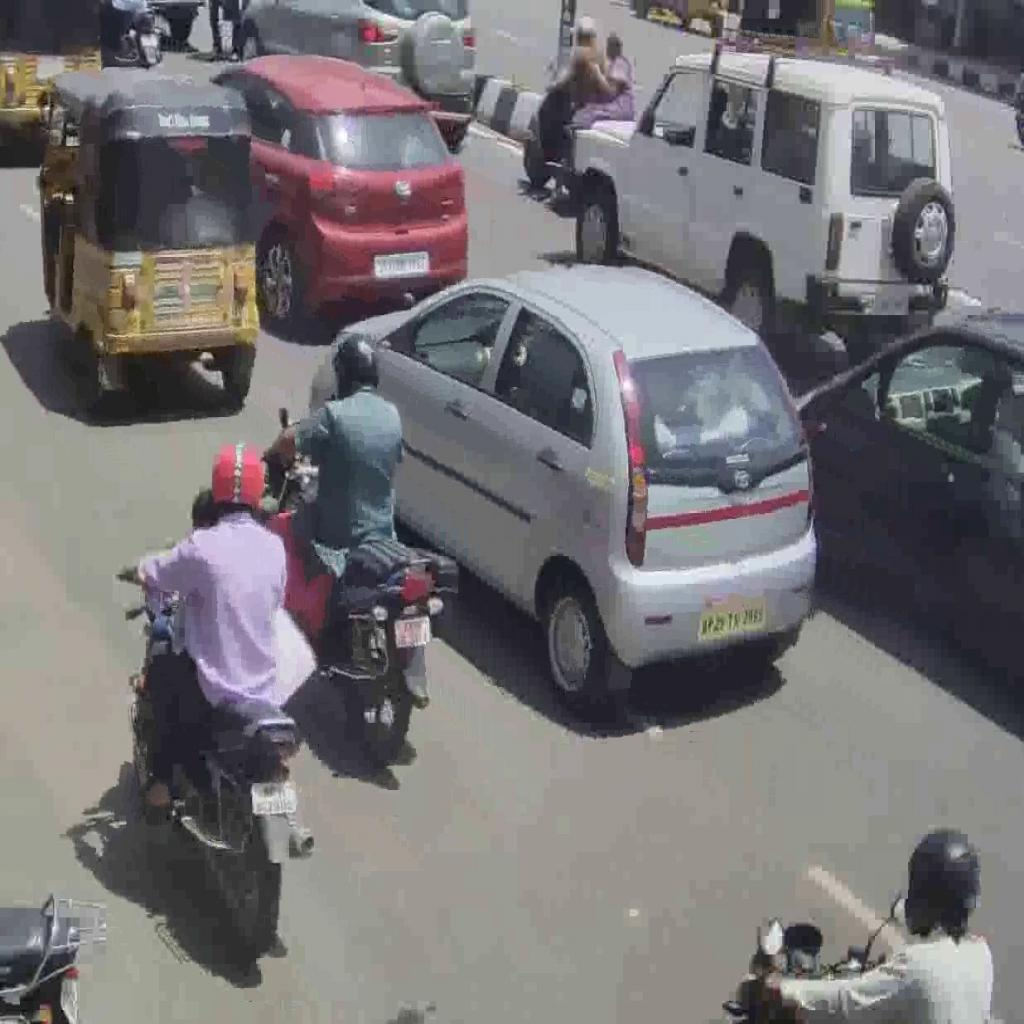helmet: (117, 540, 319, 961), (261, 415, 460, 765)
